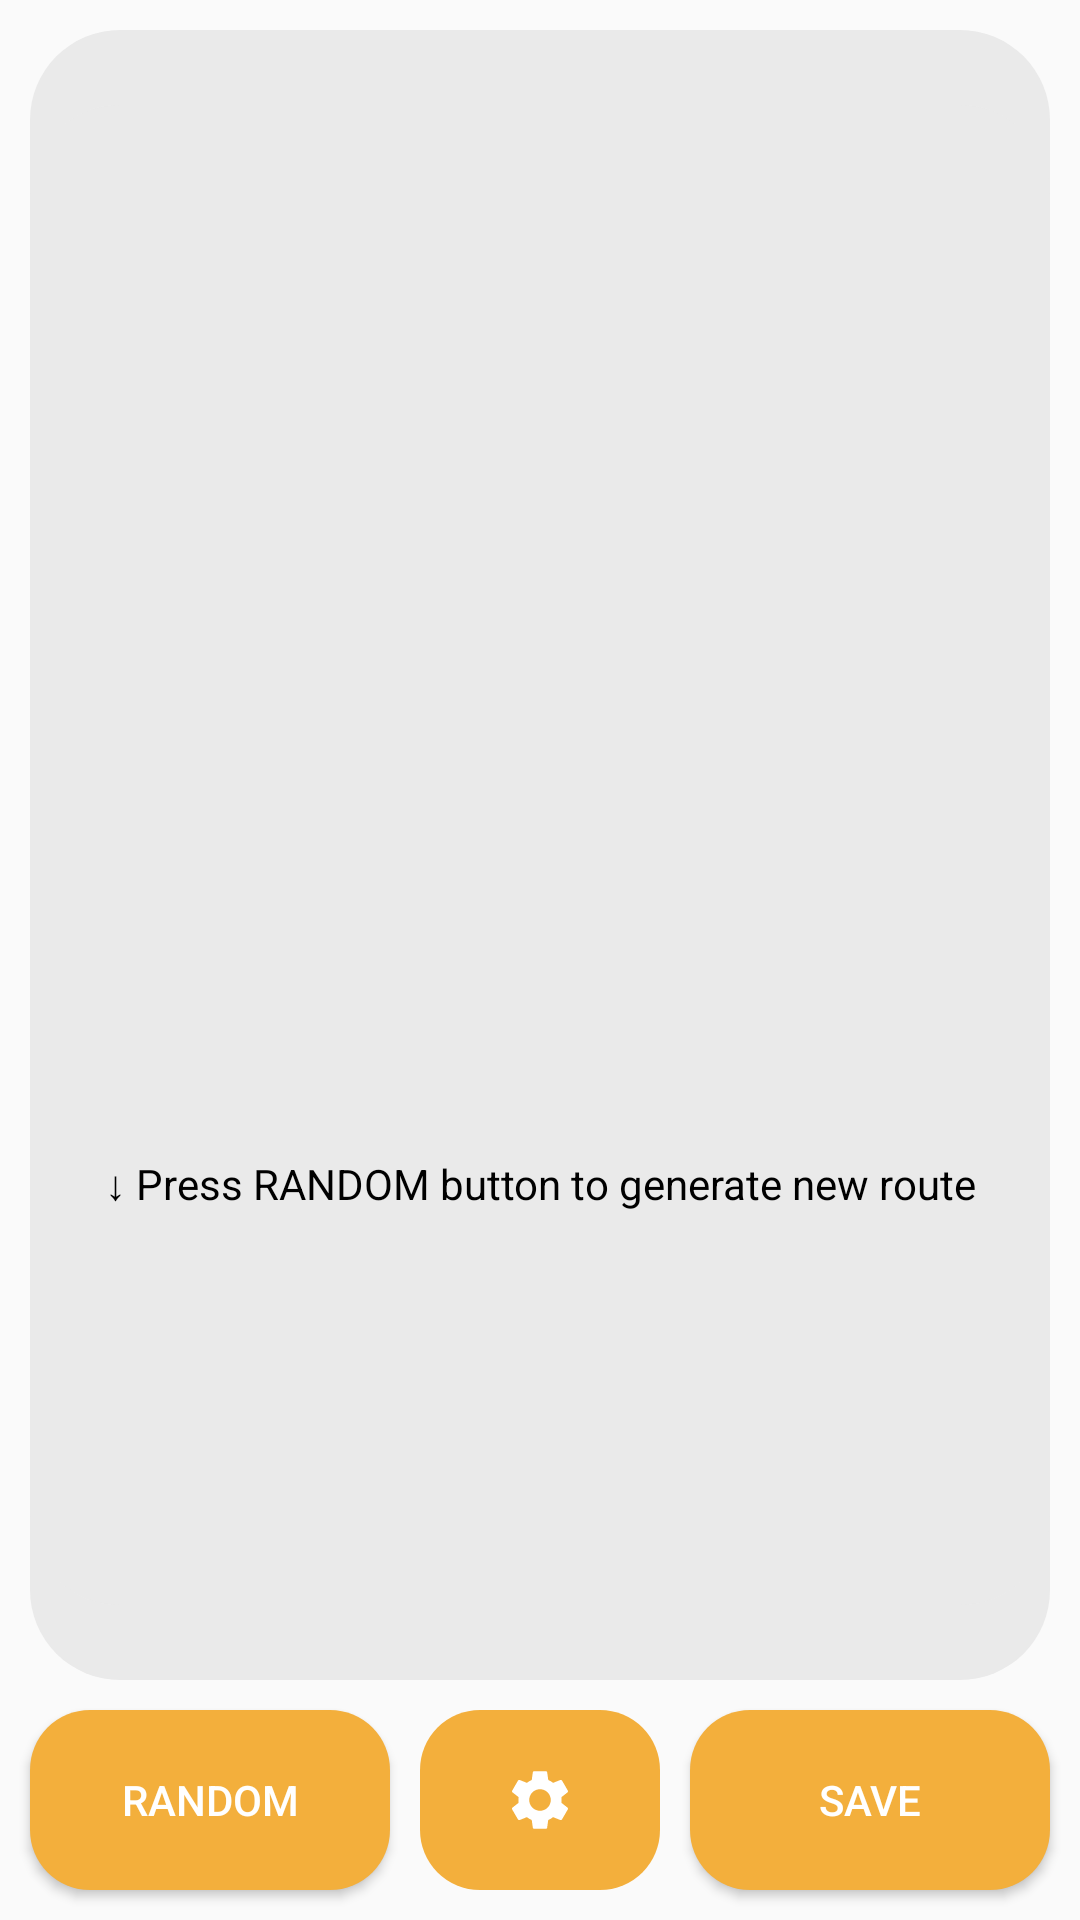

Screen size 1080x1920. Icon name, then its box in pixels as Rect(x1, y1, x2, y2):
settings: Rect(420, 1710, 660, 1890)
